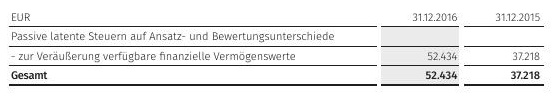table: (0, 0, 559, 100)
